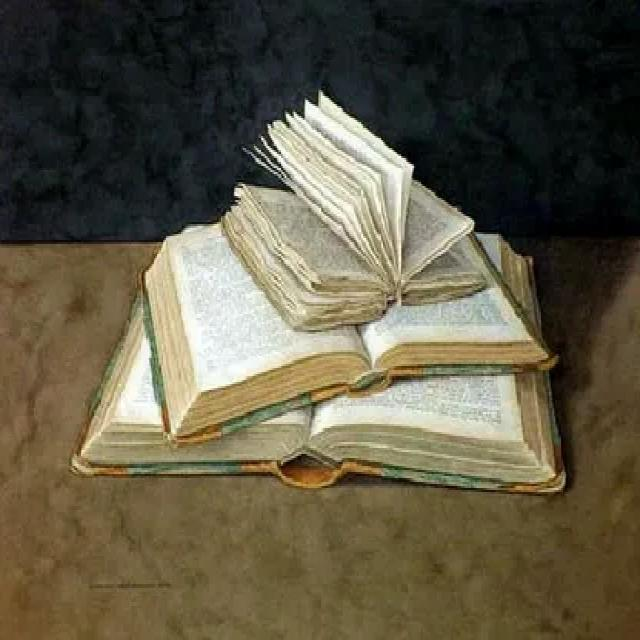book: (204, 88, 490, 332)
